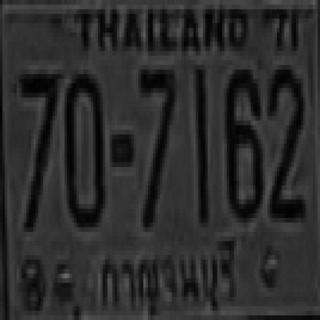N00: (63, 70, 104, 222)
N01: (194, 65, 207, 223)
N02: (267, 63, 303, 216)
N06: (225, 65, 260, 218)
N07: (19, 70, 57, 227), (139, 65, 174, 227)
P17: (95, 235, 242, 317)
